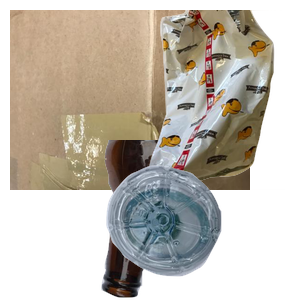cardboard: (10, 10, 250, 190)
glass: (99, 140, 300, 300)
plastic: (104, 163, 300, 300)
trash: (127, 10, 300, 190)
